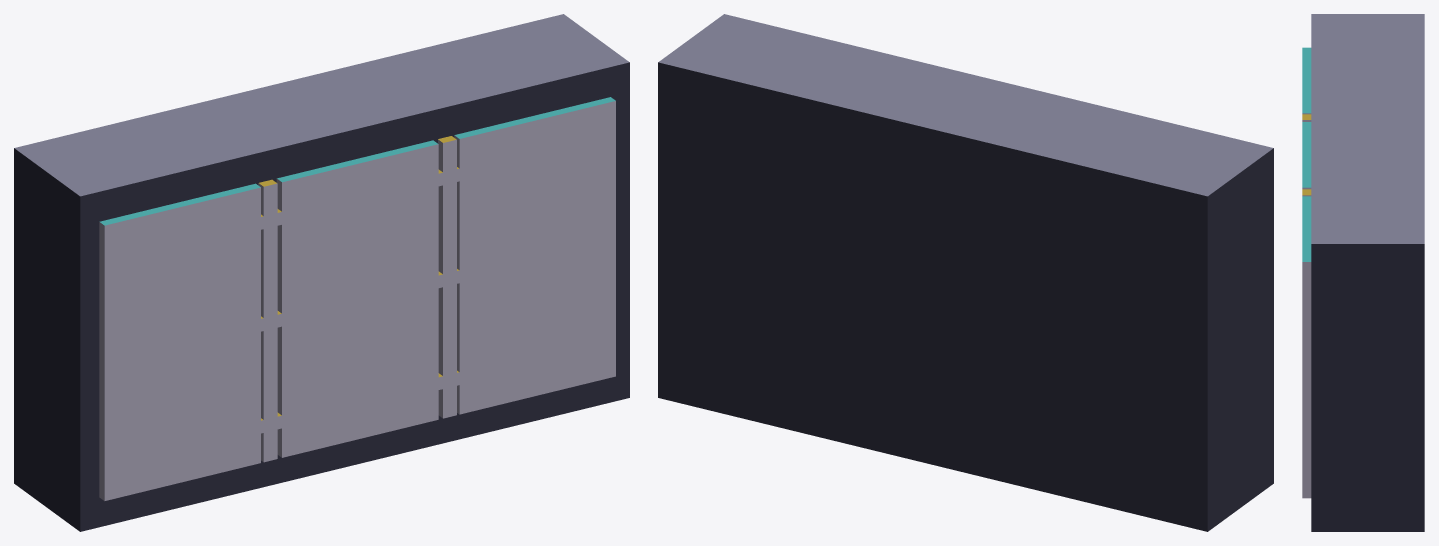
Rendered from star_garden_giant_gate.obj.
3 renders of one model, left to right at view 1: azimuth 30°, elevation 25°; view 2: azimuth 150°, elevation 25°; view 3: azimuth 270°, elevation 25°, orthographic. The views are drawn at different scales.
Visible parts, largest first — view 1: star_garden_giant_gate; view 2: star_garden_giant_gate; view 3: star_garden_giant_gate.
Boxes of the visible parts, bbox=[...] form: star_garden_giant_gate: bbox=[14, 14, 629, 531]; star_garden_giant_gate: bbox=[658, 14, 1273, 531]; star_garden_giant_gate: bbox=[1302, 14, 1424, 531].
Size of the model in its own units: 14.4 by 8.4 by 3.24.
